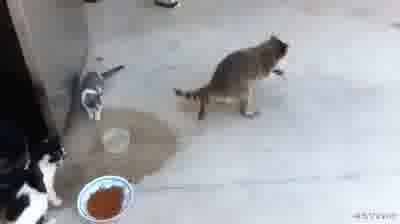raccoon: (172, 31, 292, 123)
